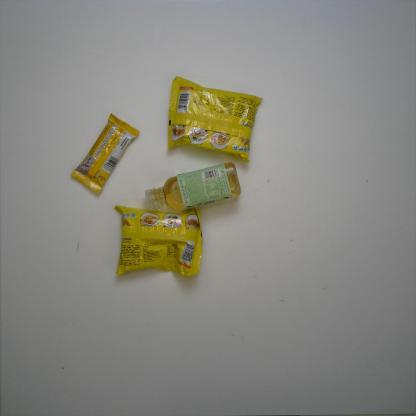Chocolate: (70, 109, 140, 197)
Drink: (143, 158, 242, 216)
Instant Noodles: (163, 73, 269, 168), (111, 202, 208, 281)
